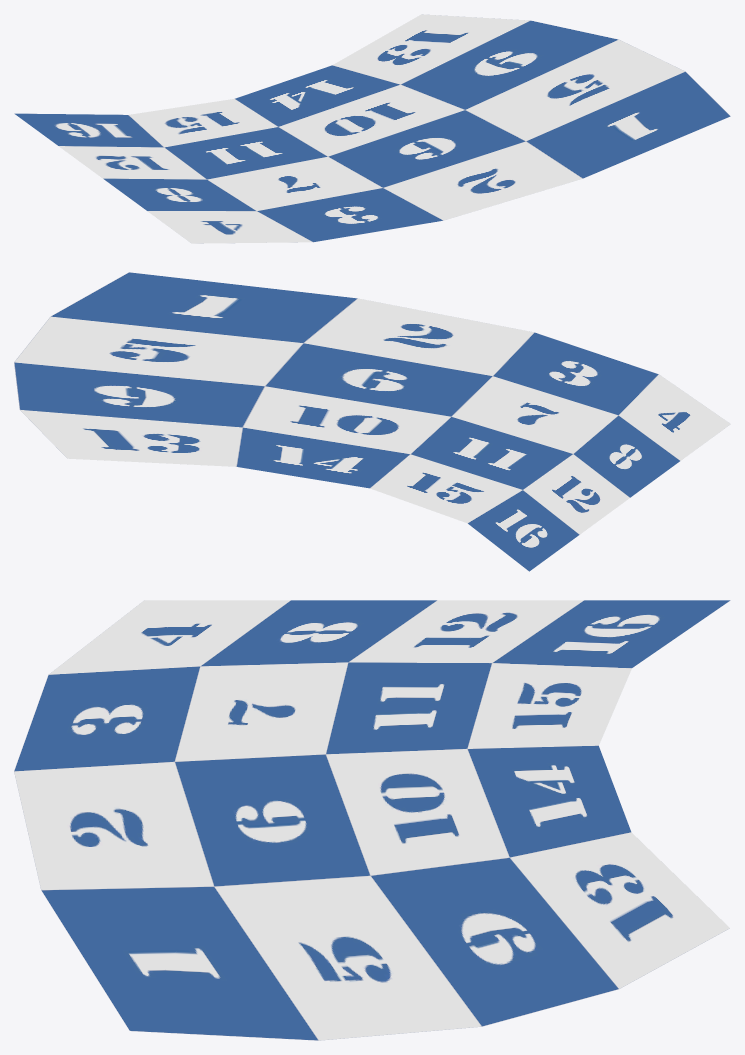
Rendered from Hi_Spl_FireTrailPlane_01.fbx.
3 renders of one model, top to bottom at view 1: azimuth 30°, elevation 25°; view 2: azimuth 150°, elevation 25°; view 3: azimuth 270°, elevation 25°, orthographic. The views are drawn at different scales.
Visible parts, largest first — view 1: SM_d_e_P0001_V00_C00_SplHkr_FireTrailPlane_01; view 2: SM_d_e_P0001_V00_C00_SplHkr_FireTrailPlane_01; view 3: SM_d_e_P0001_V00_C00_SplHkr_FireTrailPlane_01.
Part boxes in pixels (x1,y1,x2,y2): SM_d_e_P0001_V00_C00_SplHkr_FireTrailPlane_01: [14, 14, 730, 243]; SM_d_e_P0001_V00_C00_SplHkr_FireTrailPlane_01: [14, 272, 730, 571]; SM_d_e_P0001_V00_C00_SplHkr_FireTrailPlane_01: [14, 600, 730, 1040].
Size of the model in its own units: 178 by 1.5e-14 by 122.
1 material, 1 textured.
